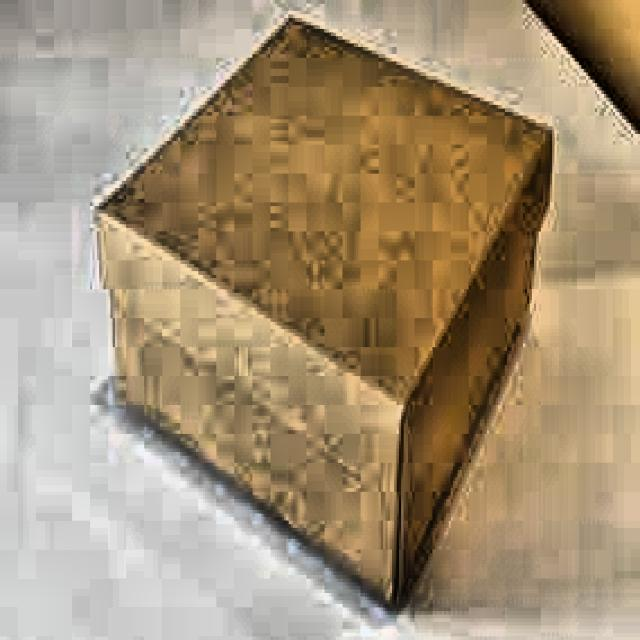cardboard: (90, 10, 556, 612)
